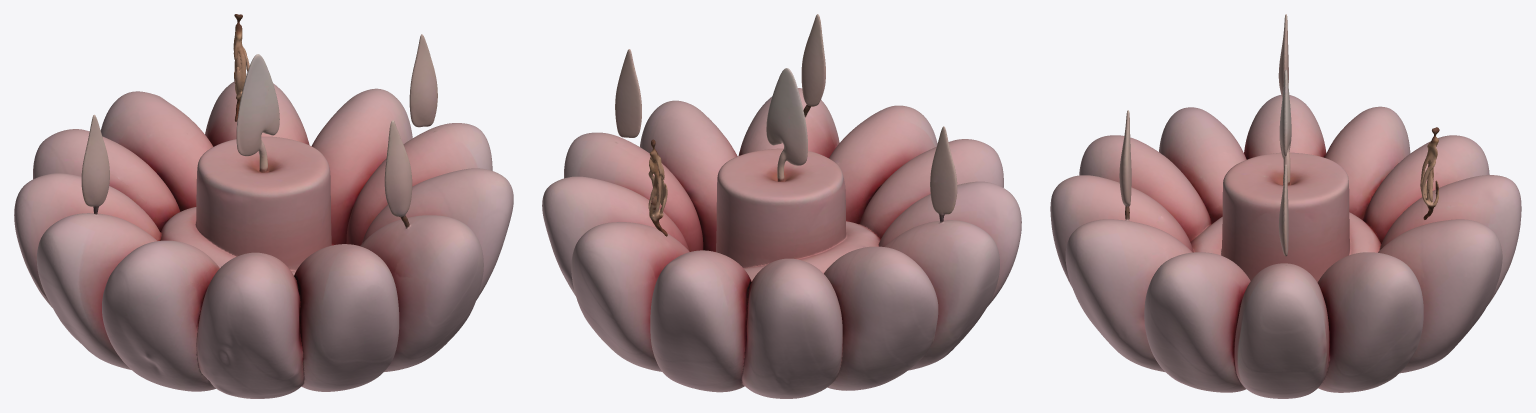
File: detailed_realistic_model_floating_02.glb
3 views of the same model, side by side, from view 1: azimuth 30°, elevation 25°; view 2: azimuth 150°, elevation 25°; view 3: azimuth 270°, elevation 25° (orthographic). The views are drawn at different scales.
Visible parts, largest first — view 1: tripo_node_715f9040-d01a-410d-b08c-ee1cb7229a4d; view 2: tripo_node_715f9040-d01a-410d-b08c-ee1cb7229a4d; view 3: tripo_node_715f9040-d01a-410d-b08c-ee1cb7229a4d.
Part boxes in pixels (x1,y1,x2,y2): tripo_node_715f9040-d01a-410d-b08c-ee1cb7229a4d: (14,14,513,398); tripo_node_715f9040-d01a-410d-b08c-ee1cb7229a4d: (542,14,1021,398); tripo_node_715f9040-d01a-410d-b08c-ee1cb7229a4d: (1050,14,1521,398).
Bounding box in the file's own units: 1 × 0.6242 × 0.9817.
Materials: 1 (1 with a texture image).
